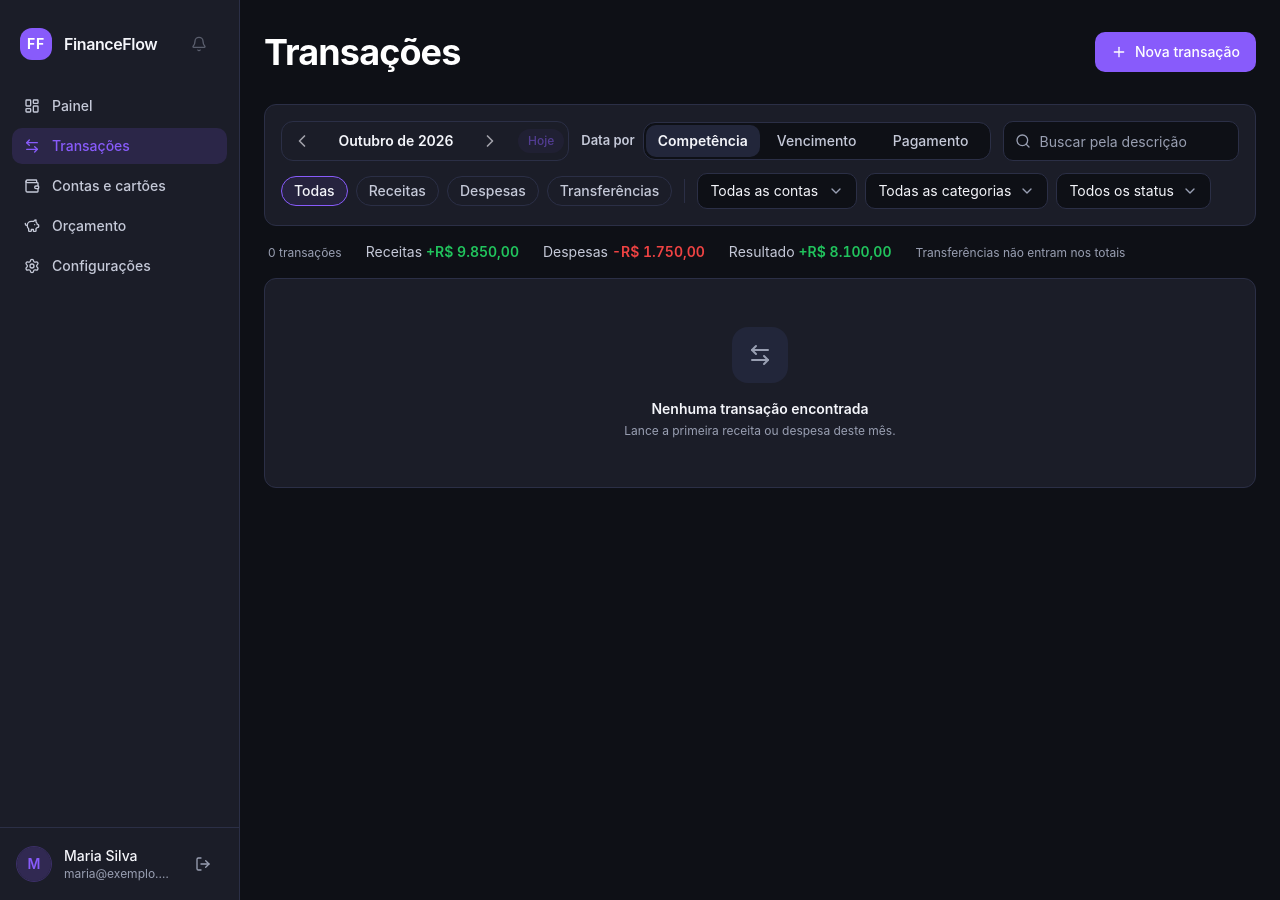
Test: transações › lança uma despesa com a competência sugerida pelo backend
The width and height of the screenshot is (1280, 900).
Check: the heading "Nenhuma transação encontrada" is shown, box [651,399,869,419]
Click the button "Nova transação": (1176, 52) [1095,32,1256,72]
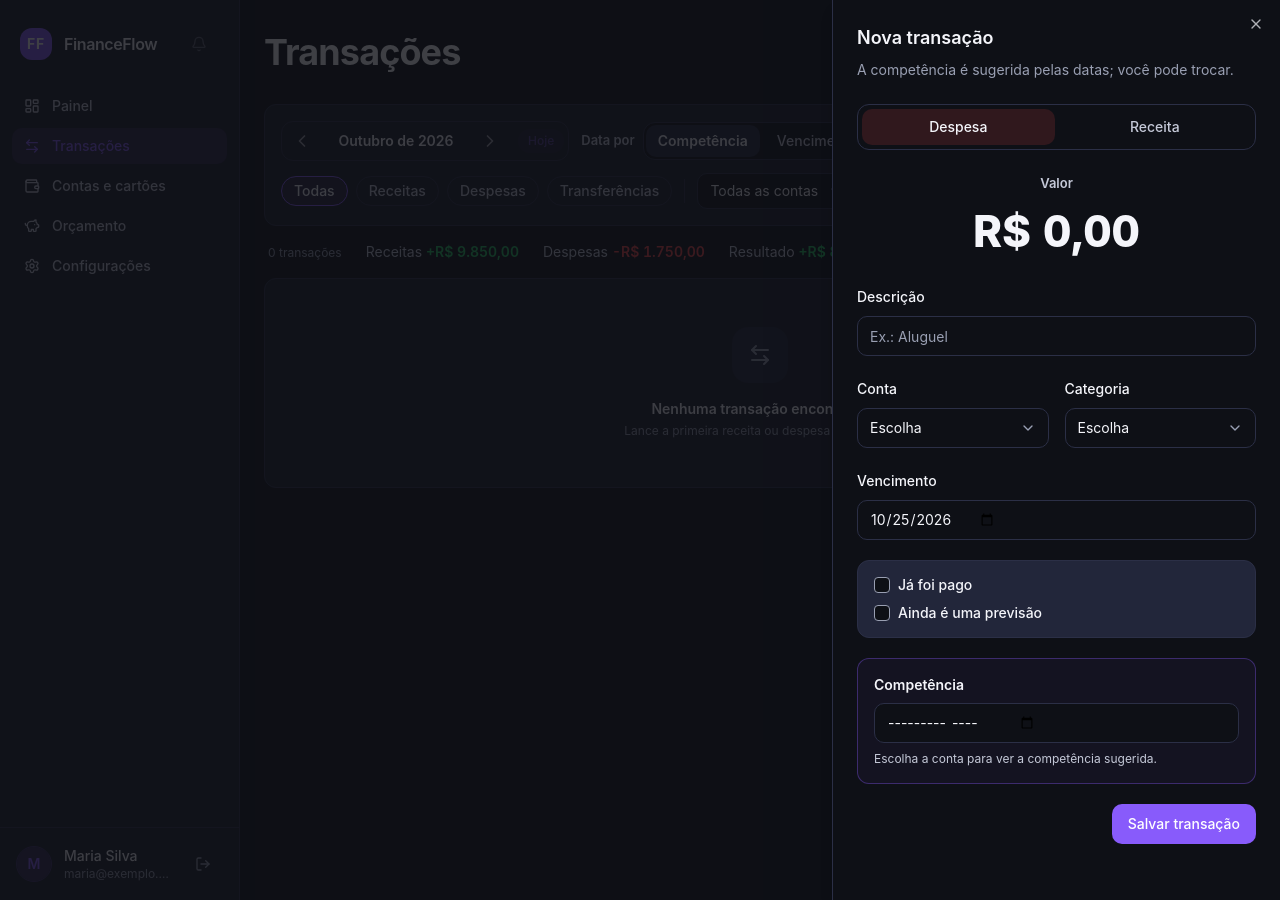
In the field labelled "Valor": (1056, 231) [857,198,1256,264], type "175000"
In the field labelled "Descrição": (1056, 336) [857,316,1256,356], type "Aluguel"
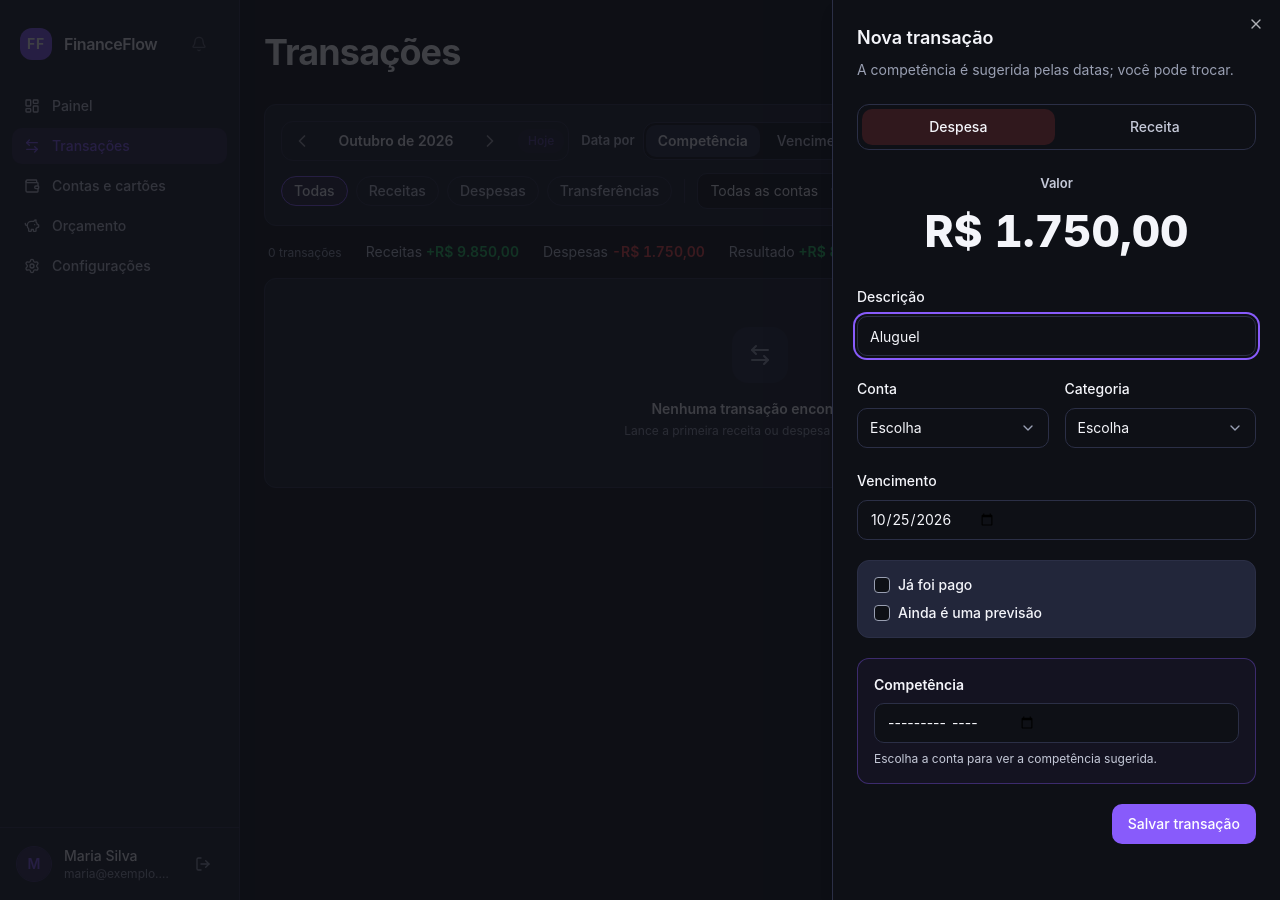
Select "Nubank" in the dropdown labelled "Conta": (953, 428) [857,408,1048,448]
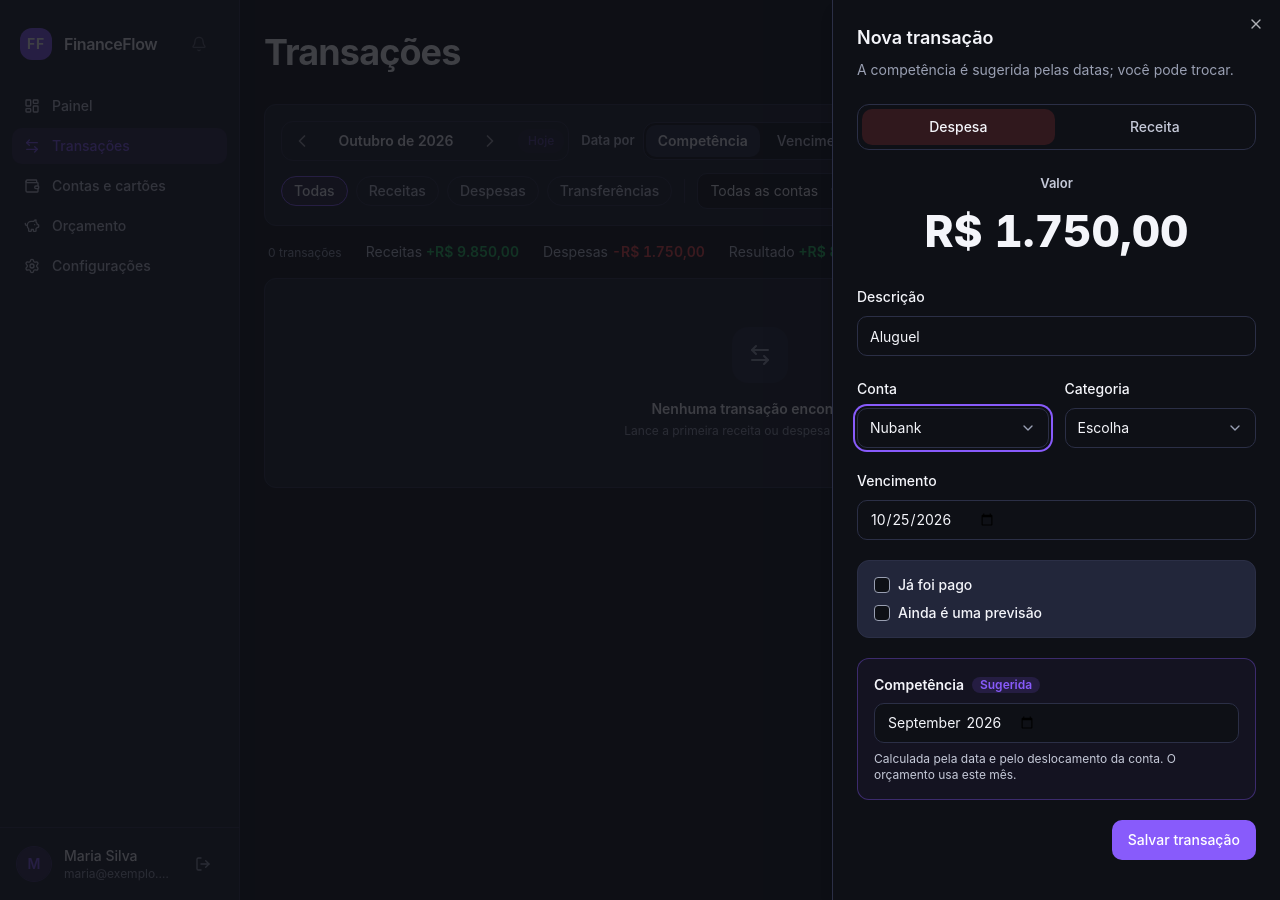
Select "Moradia › Aluguel" in the dropdown labelled "Categoria": (1160, 428) [1064,408,1256,448]
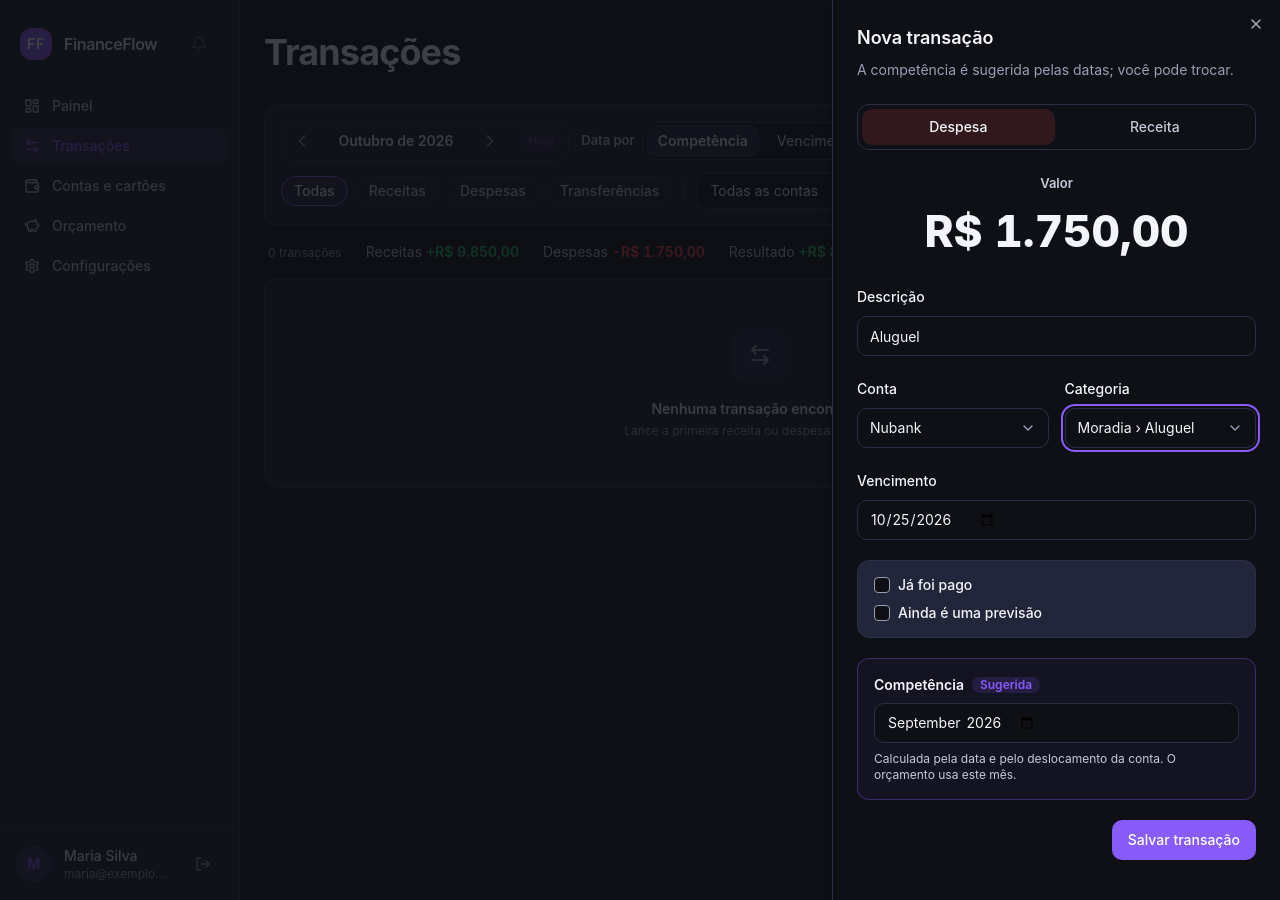
In the date field labelled "Vencimento": (1056, 520) [857,500,1256,540], type "2026-10-05"
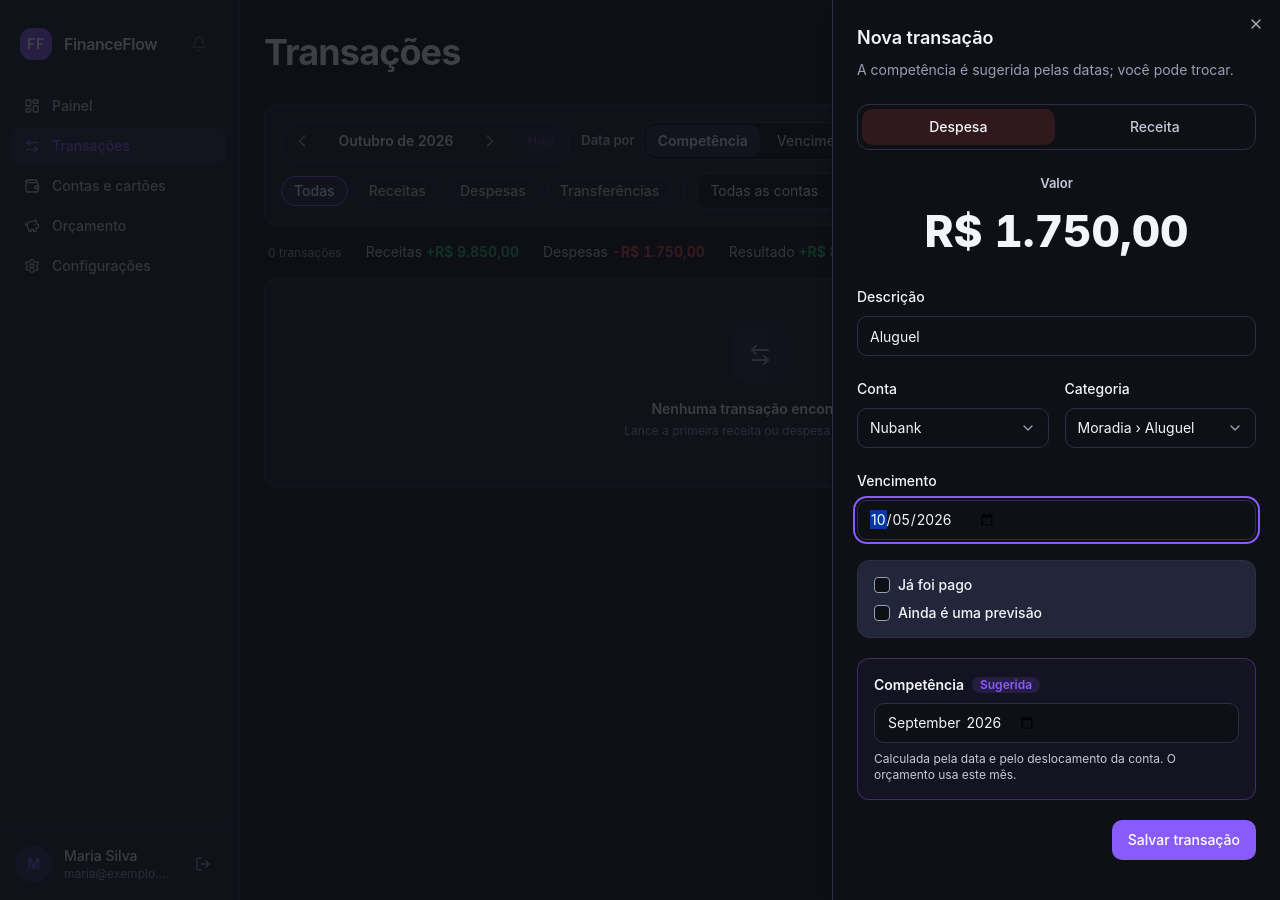
Check: the text "Sugerida" is shown, box [972,677,1040,693]
Check: the field labelled "Competência Sugerida" holds "2026-09", box [874,703,1239,743]
Click the button "Salvar transação": (1184, 840) [1112,820,1256,860]
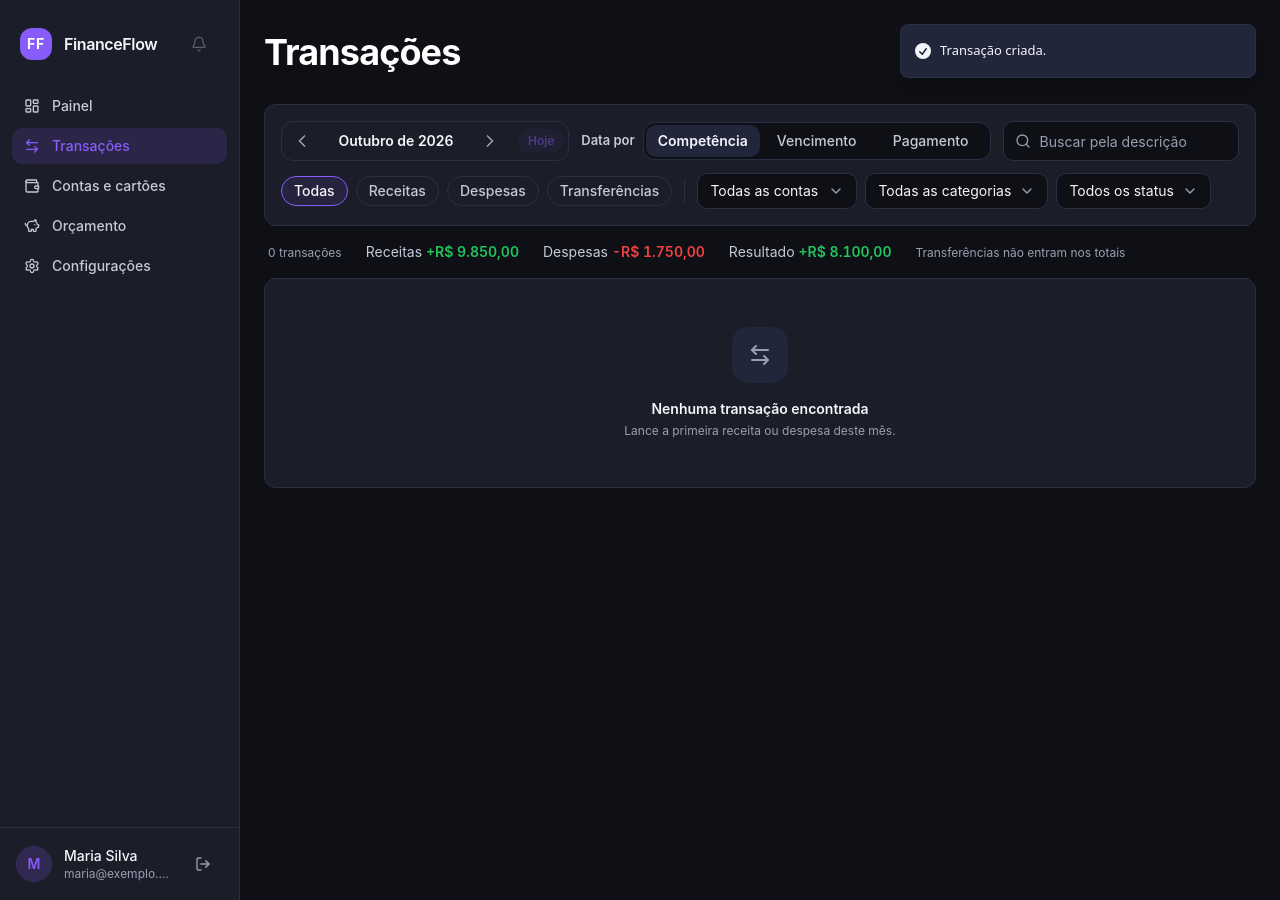
Check: the dialog is gone
